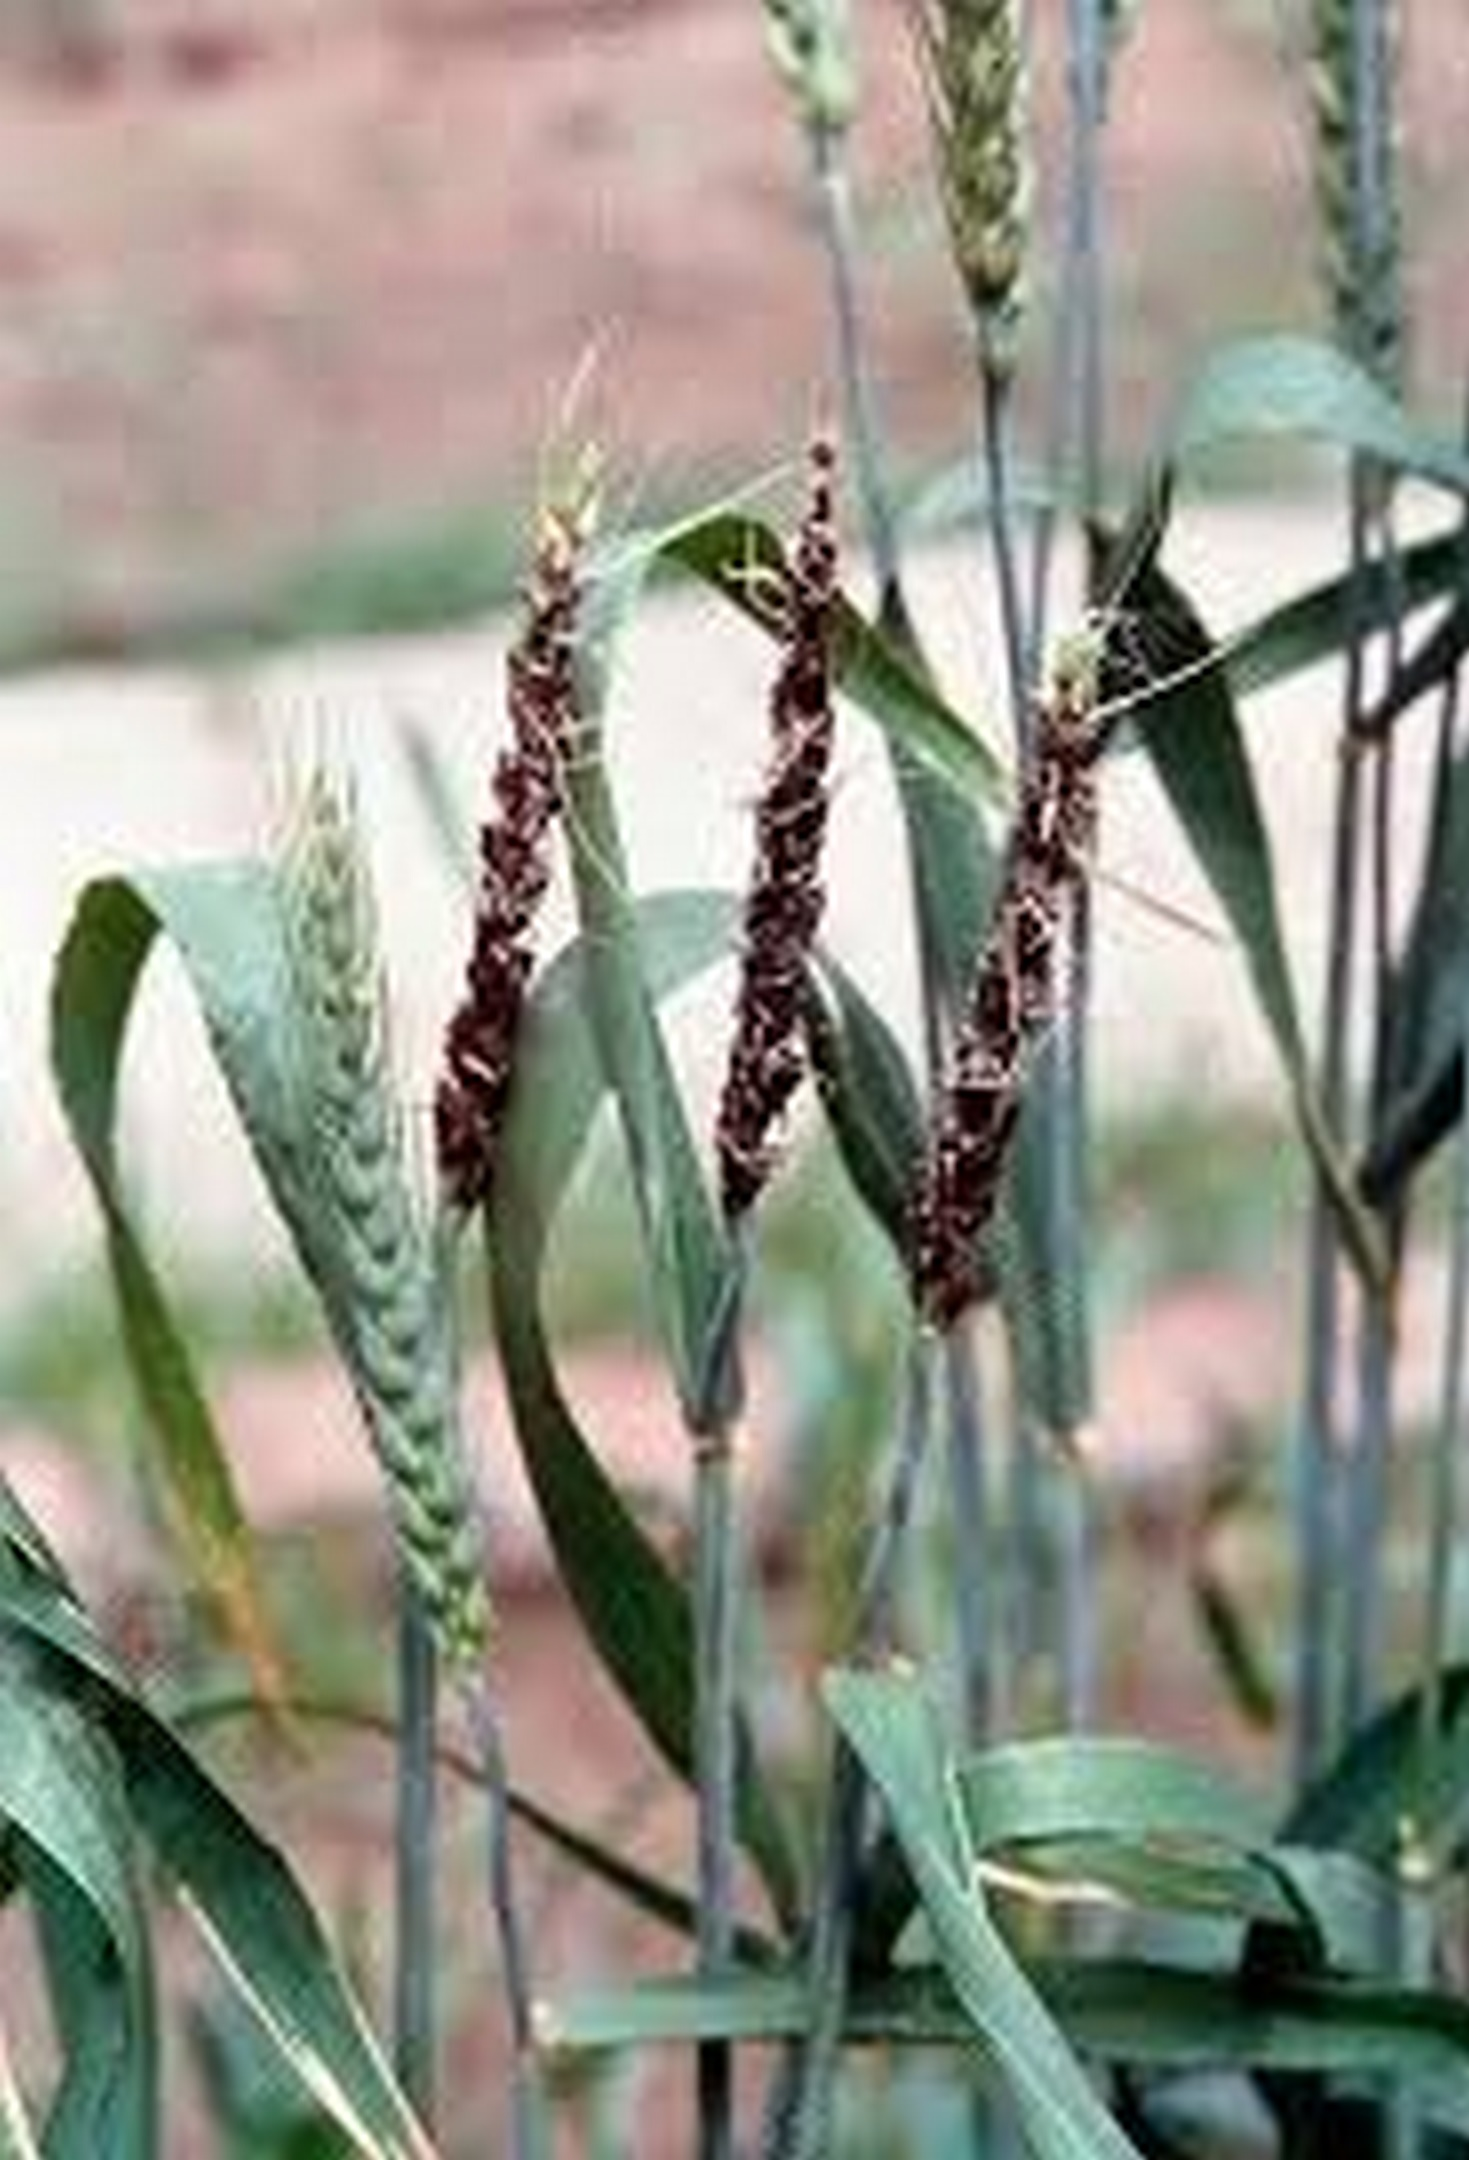Wheat Loose Smut: (379, 480, 1133, 1282)
